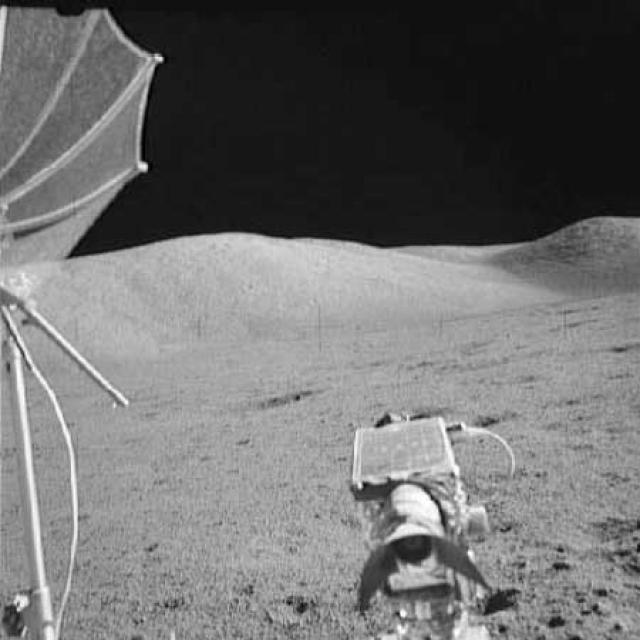artifact: (2, 0, 160, 639), (327, 405, 538, 639)
crater: (207, 383, 320, 412)
rock: (586, 594, 618, 621), (550, 599, 566, 629)
